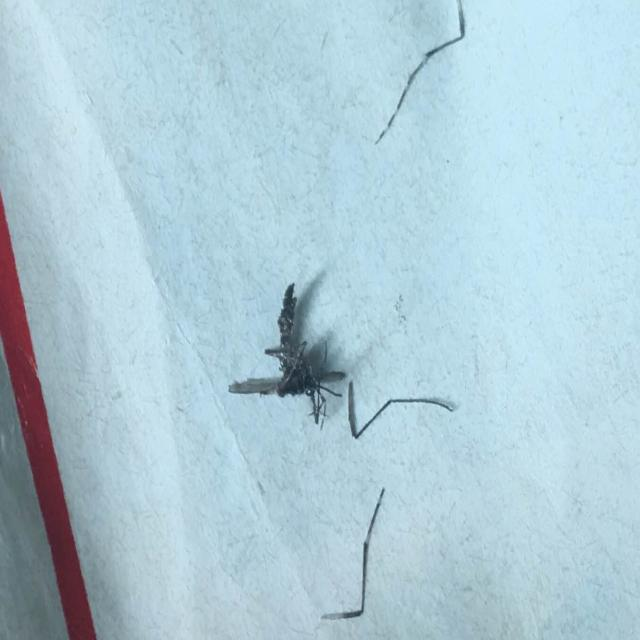albopictus: (230, 272, 367, 438)
